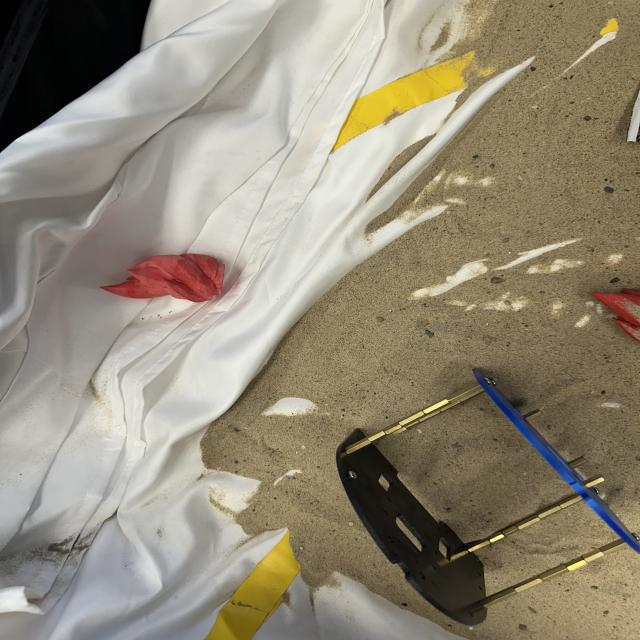fire: (104, 252, 228, 302), (594, 287, 640, 340)
